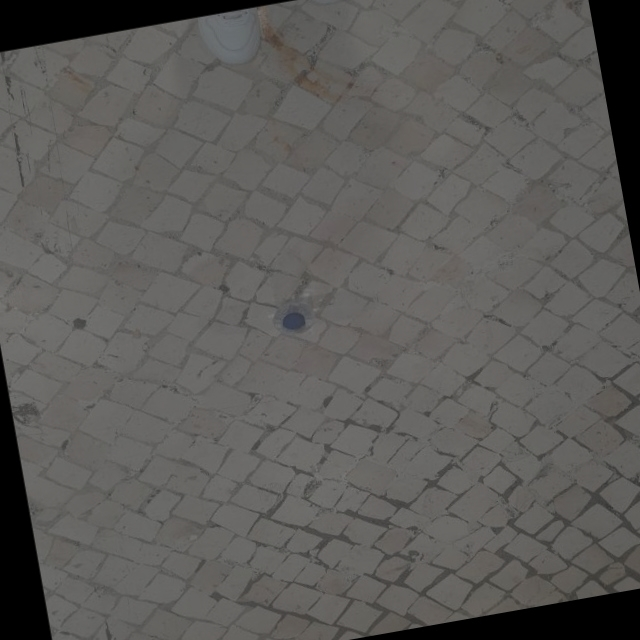Plastic-bottle: (270, 289, 322, 334)
